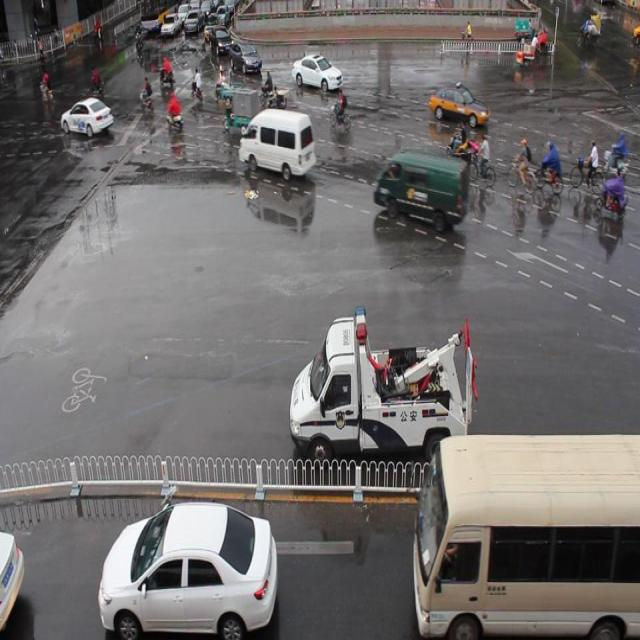bus: (289, 303, 476, 467)
car: (99, 499, 277, 640), (427, 80, 488, 130), (1, 525, 25, 640), (292, 52, 343, 95), (229, 39, 263, 74), (211, 24, 235, 56)
truck: (411, 431, 640, 640), (372, 147, 468, 232), (238, 105, 316, 182)
